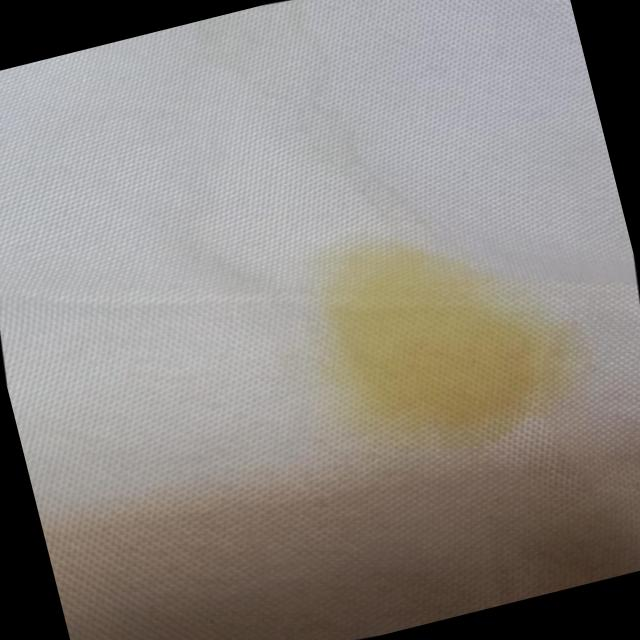stain: (274, 179, 607, 494)
